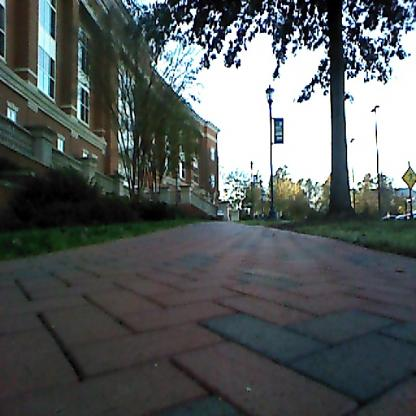Edge: (1, 217, 183, 279), (287, 220, 416, 279)
Sidewalk: (0, 222, 416, 416)
